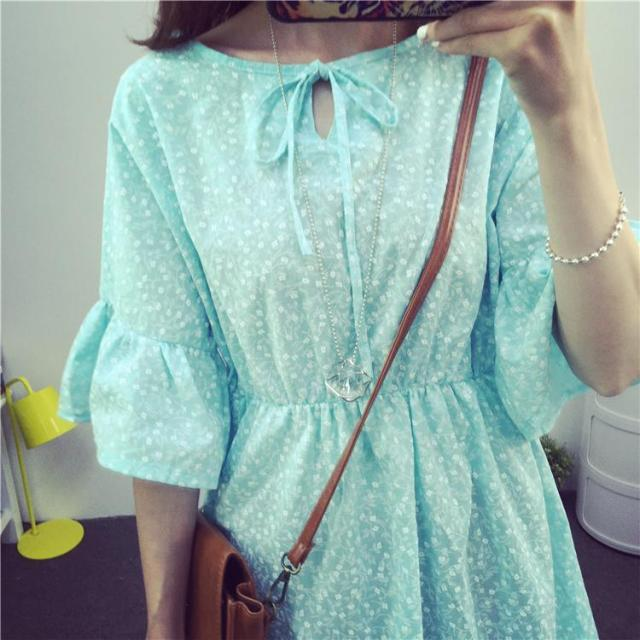short-sleeve-dress: (73, 43, 602, 640), (87, 40, 142, 91)
